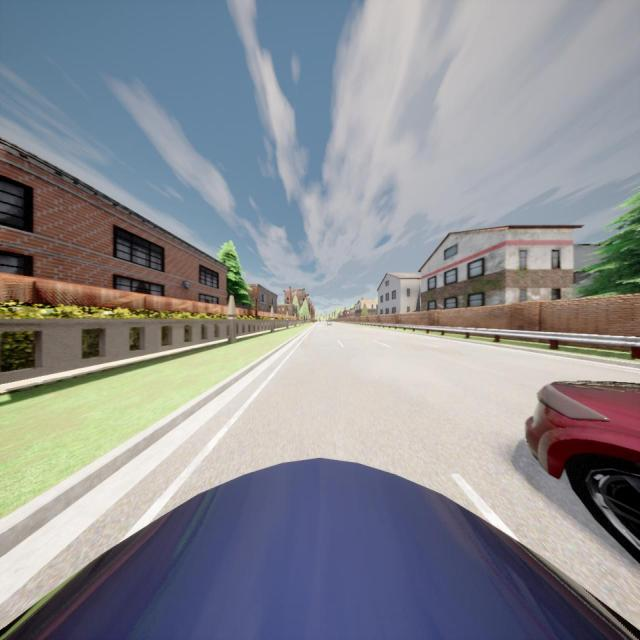Vehicle: (0, 455, 640, 640), (526, 382, 640, 562), (326, 320, 332, 326)
